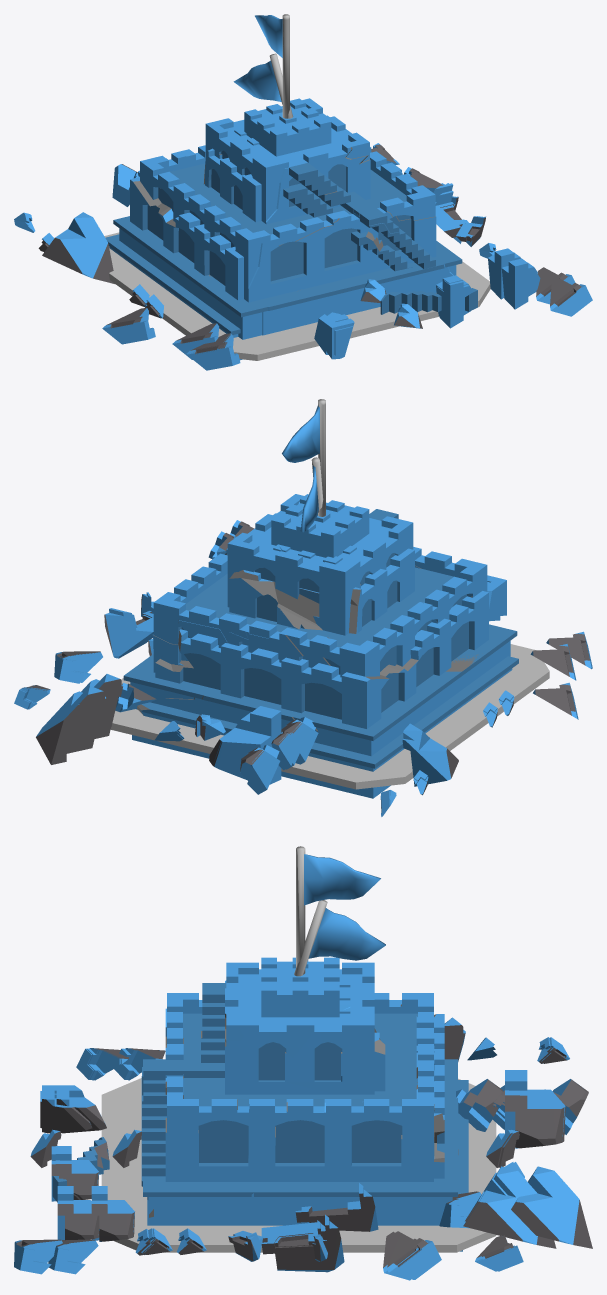
The model's file is deneme.fbx.
3 renders of one model, top to bottom at view 1: azimuth 30°, elevation 25°; view 2: azimuth 150°, elevation 25°; view 3: azimuth 270°, elevation 25°, orthographic. The views are drawn at different scales.
Parts seen in each view (by area): view 1: castlelevel1blue, castlelevel1blue50destroyed, castlelevel1blue25destyoed, bluebasecastelevel1100destoreyed, castlelevel1blue.001_cell.139, bluebasecastelevel150destoreyed, castlelevel1blue.001_cell.092, castlelevel1blue100destroyed.001, castlelevel1blue.001_cell.069, bluebasecastelevel1, castlelevel1blue.001_cell.121, castlelevel1blue.001_cell.019 (+10 smaller); view 2: castlelevel1blue, castlelevel1blue25destyoed, bluebasecastelevel150destoreyed, castlelevel1blue75destroyed, castlelevel1blue.001_cell.123, castlelevel1blue.001_cell.140, bluebasecastelevel1, castlelevel1blue.001_cell.139, castlelevel1blue.001_cell.073, castlelevel1blue.001_cell.077, castlelevel1blue.001_cell.072, castlelevel1blue.001_cell.044 (+6 smaller); view 3: castlelevel1blue, castlelevel1blue75destroyed, castlelevel1blue50destroyed, bluebasecastelevel1, castlelevel1blue25destyoed, bluebasecastelevel150destoreyed, castlelevel1blue.001_cell.123, castlelevel1blue.001_cell.140, castlelevel1blue.001_cell.072, castlelevel1blue.001_cell.073, bluebasecastelevel1100destoreyed, castlelevel1blue.001_cell.124 (+20 smaller).
Part boxes in pixels (x1=…): castlelevel1blue: x1=113, y1=14, x2=462, y2=339; castlelevel1blue50destroyed: x1=152, y1=147, x2=454, y2=335; castlelevel1blue25destyoed: x1=105, y1=53, x2=412, y2=360; bluebasecastelevel1100destoreyed: x1=105, y1=233, x2=490, y2=360; castlelevel1blue.001_cell.139: x1=42, y1=212, x2=115, y2=284; bluebasecastelevel150destoreyed: x1=109, y1=273, x2=480, y2=354; castlelevel1blue.001_cell.092: x1=501, y1=258, x2=540, y2=309; castlelevel1blue100destroyed.001: x1=380, y1=288, x2=477, y2=314; castlelevel1blue.001_cell.069: x1=102, y1=307, x2=155, y2=344; bluebasecastelevel1: x1=104, y1=232, x2=489, y2=335; castlelevel1blue.001_cell.121: x1=550, y1=277, x2=592, y2=316; castlelevel1blue.001_cell.019: x1=437, y1=280, x2=473, y2=328; castlelevel1blue: x1=123, y1=399, x2=517, y2=756; castlelevel1blue25destyoed: x1=132, y1=457, x2=518, y2=798; bluebasecastelevel150destoreyed: x1=110, y1=658, x2=549, y2=789; castlelevel1blue75destroyed: x1=146, y1=565, x2=472, y2=731; castlelevel1blue.001_cell.123: x1=36, y1=686, x2=106, y2=764; castlelevel1blue.001_cell.140: x1=209, y1=706, x2=281, y2=784; bluebasecastelevel1: x1=307, y1=644, x2=549, y2=787; castlelevel1blue.001_cell.139: x1=402, y1=723, x2=458, y2=786; castlelevel1blue.001_cell.073: x1=104, y1=608, x2=153, y2=658; castlelevel1blue.001_cell.077: x1=240, y1=745, x2=280, y2=794; castlelevel1blue.001_cell.072: x1=81, y1=674, x2=123, y2=738; castlelevel1blue.001_cell.044: x1=54, y1=653, x2=99, y2=683; castlelevel1blue: x1=143, y1=846, x2=457, y2=1225; castlelevel1blue75destroyed: x1=145, y1=1005, x2=458, y2=1225; castlelevel1blue50destroyed: x1=141, y1=980, x2=456, y2=1225; bluebasecastelevel1: x1=101, y1=1078, x2=496, y2=1252; castlelevel1blue25destyoed: x1=294, y1=900, x2=468, y2=1251; bluebasecastelevel150destoreyed: x1=101, y1=1079, x2=496, y2=1252; castlelevel1blue.001_cell.123: x1=511, y1=1166, x2=592, y2=1248; castlelevel1blue.001_cell.140: x1=505, y1=1070, x2=565, y2=1148; castlelevel1blue.001_cell.072: x1=463, y1=1166, x2=556, y2=1248; castlelevel1blue.001_cell.073: x1=261, y1=1214, x2=344, y2=1272; bluebasecastelevel1100destoreyed: x1=102, y1=1079, x2=495, y2=1252; castlelevel1blue.001_cell.124: x1=295, y1=1183, x2=378, y2=1231.
Size of the model in its own units: 619 by 404 by 621.
